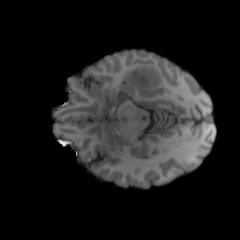glioma: (123, 65, 164, 95)
